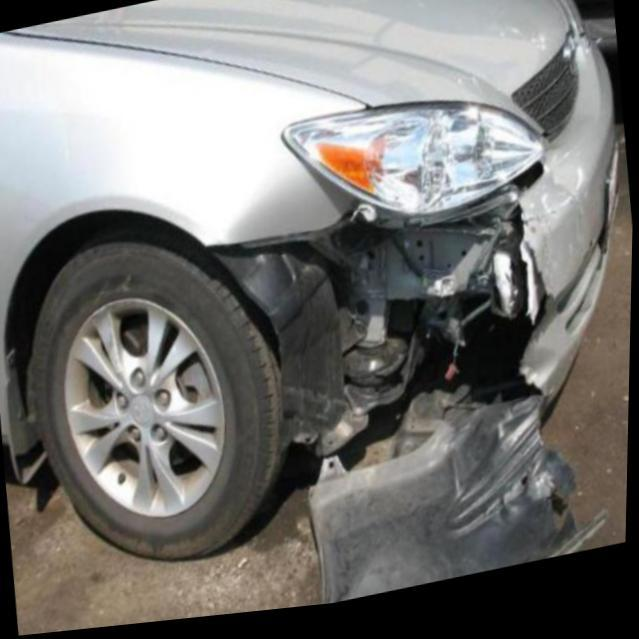no part: (203, 173, 609, 612)
